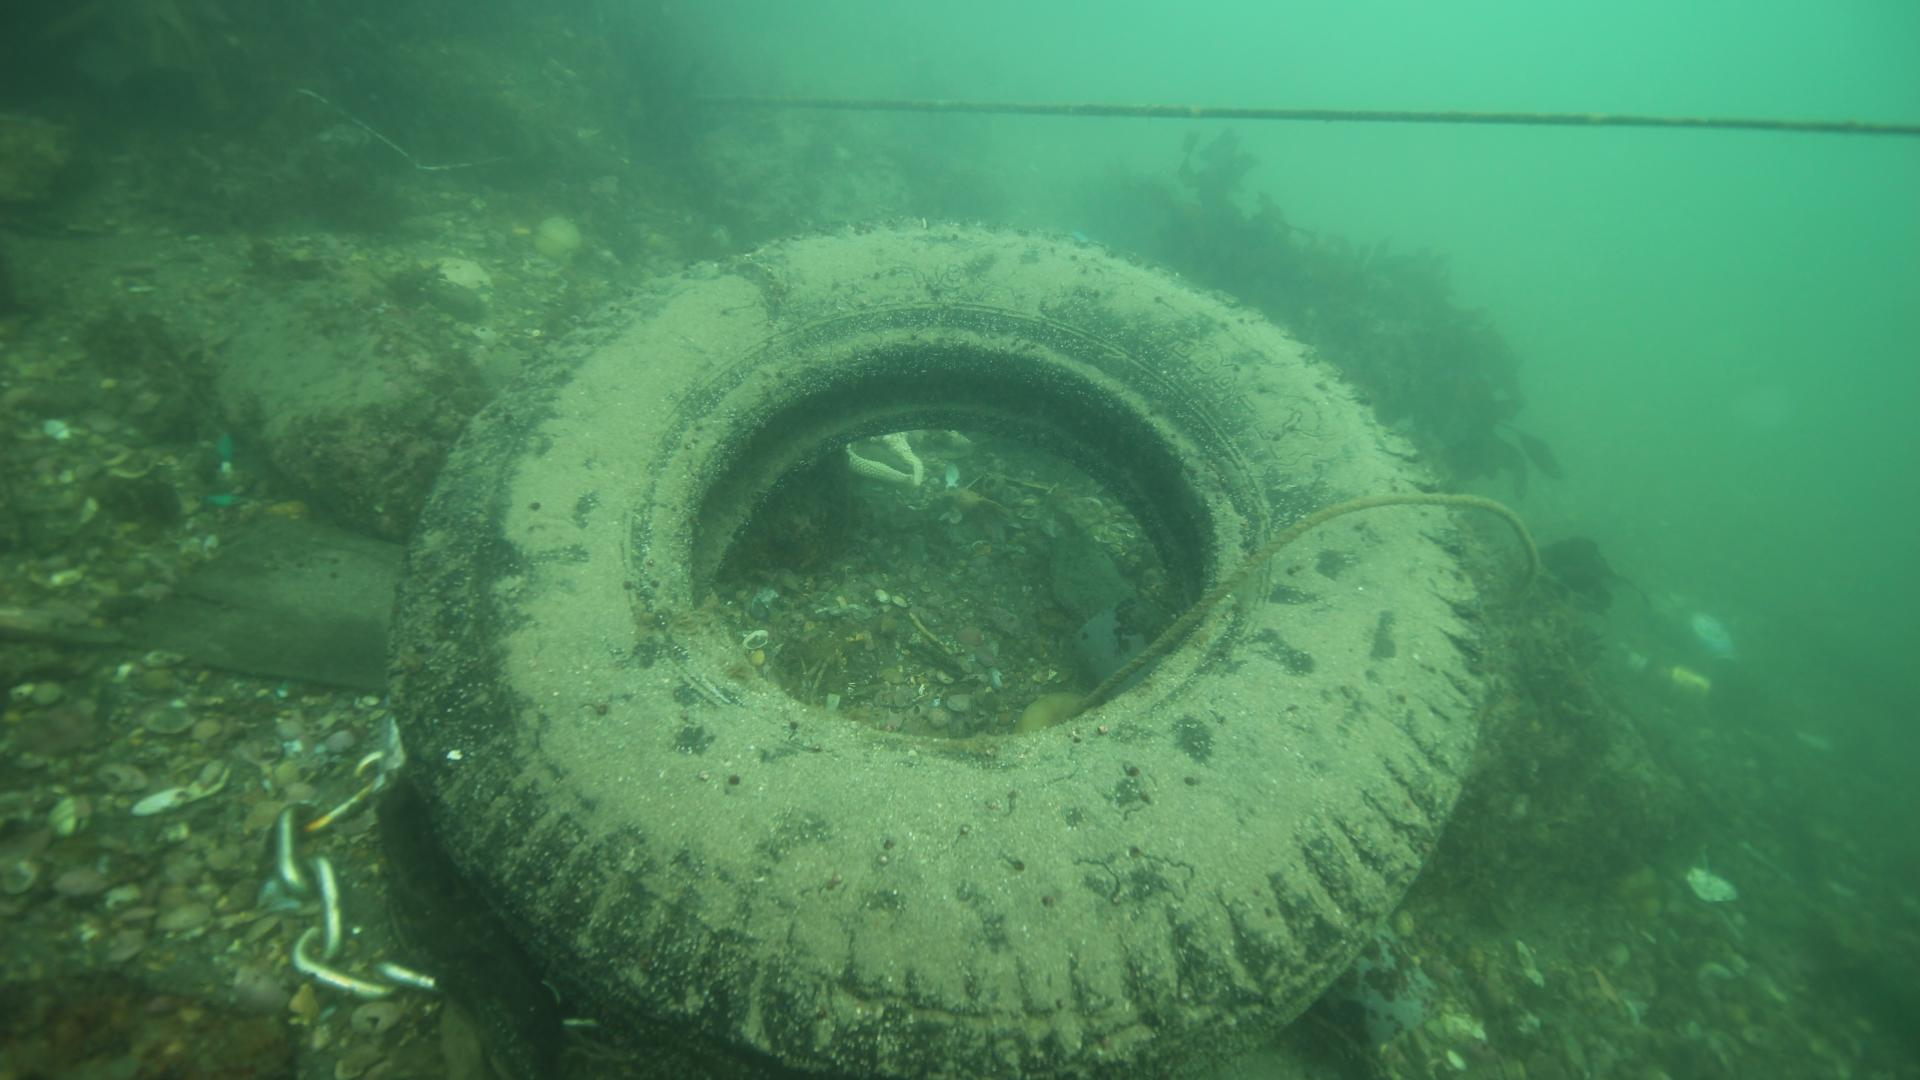rope: (1059, 485, 1542, 724)
tire: (384, 204, 1505, 1072)
